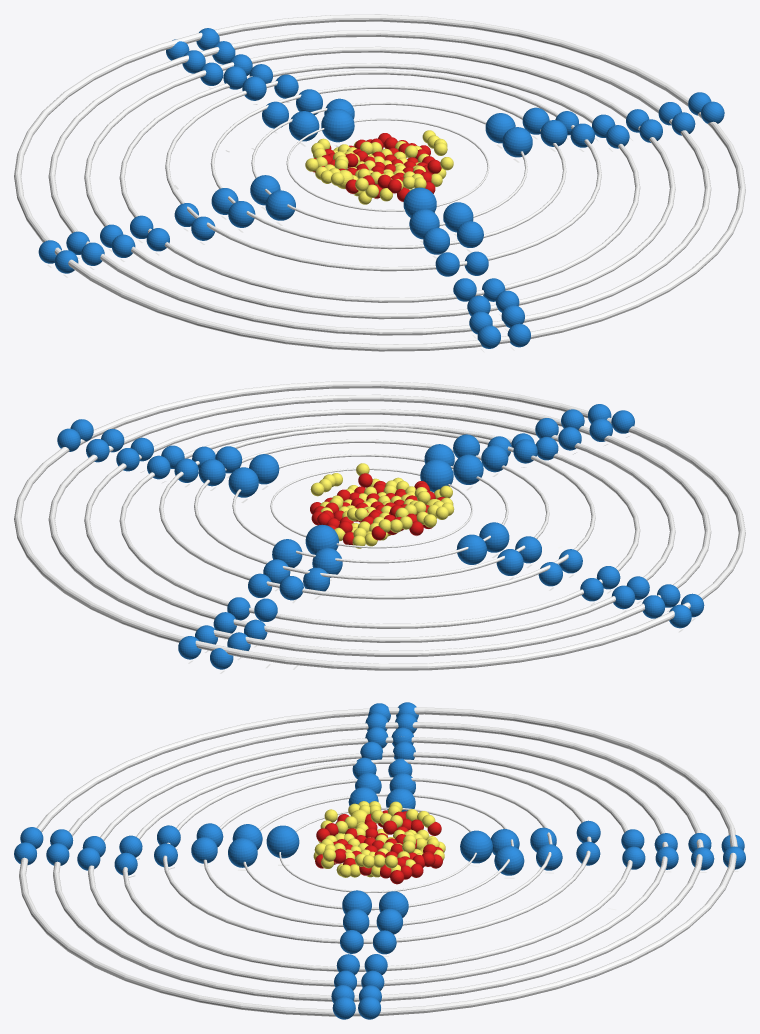
The picture shows the model from 3 angles, top to bottom: view 1: azimuth 30°, elevation 25°; view 2: azimuth 150°, elevation 25°; view 3: azimuth 270°, elevation 25°; orthographic projection.
Parts seen in each view (by area): view 1: Torus.008, Torus.007, Torus.006, Torus.005, Torus.004, Torus.003, Torus.002, Torus.001, g, g.005, g.003, g.001 (+9 smaller); view 2: Torus.008, Torus.007, Torus.006, Torus.005, Torus.004, Torus.003, Torus.002, Torus.001, g.001, g, g.006, g.004 (+12 smaller); view 3: Torus.008, Torus.007, Torus.006, Torus.005, Torus.004, Torus.003, Torus.002, g.001, g, Torus.001, g.007, g.009 (+4 smaller).
Part boxes in pixels (box(x1,y1,x2,y2)): Torus.008: box(14, 14, 745, 351); Torus.007: box(48, 30, 711, 335); Torus.006: box(84, 46, 675, 319); Torus.005: box(119, 63, 640, 302); Torus.004: box(165, 70, 601, 271); Torus.003: box(210, 85, 566, 249); Torus.002: box(251, 102, 527, 229); Torus.001: box(286, 118, 489, 211); g: box(321, 109, 354, 142); g.005: box(502, 127, 532, 157); g.003: box(265, 190, 295, 220); g.001: box(403, 187, 436, 217); Torus.008: box(14, 381, 745, 670); Torus.007: box(48, 394, 711, 656); Torus.006: box(84, 409, 675, 642); Torus.005: box(119, 423, 640, 628); Torus.004: box(159, 426, 595, 599); Torus.003: box(194, 439, 549, 580); Torus.002: box(232, 454, 508, 563); Torus.001: box(270, 468, 472, 548); g.001: box(420, 459, 453, 492); g: box(305, 524, 338, 554); g.006: box(453, 454, 483, 484); g.004: box(228, 467, 258, 497); Torus.008: box(19, 707, 737, 1016); Torus.007: box(53, 722, 703, 1001); Torus.006: box(88, 737, 668, 986); Torus.005: box(122, 752, 632, 971); Torus.004: box(163, 759, 591, 943); Torus.003: box(203, 777, 552, 927); Torus.002: box(243, 793, 513, 910); g.001: box(266, 825, 299, 858); g: box(460, 830, 492, 863); Torus.001: box(279, 807, 476, 893); g.007: box(228, 838, 257, 867); g.009: box(494, 846, 524, 875).
Size of the model in its own units: 22.25 by 2.85 by 22.05.
